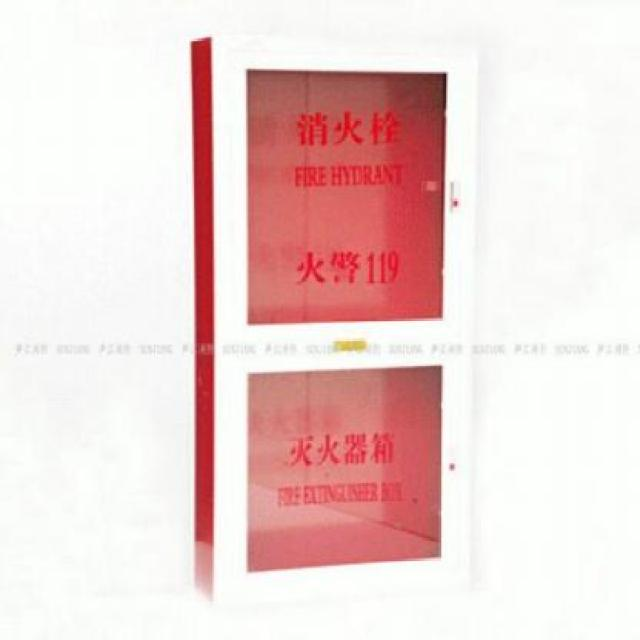firehydrant: (188, 31, 484, 614)
